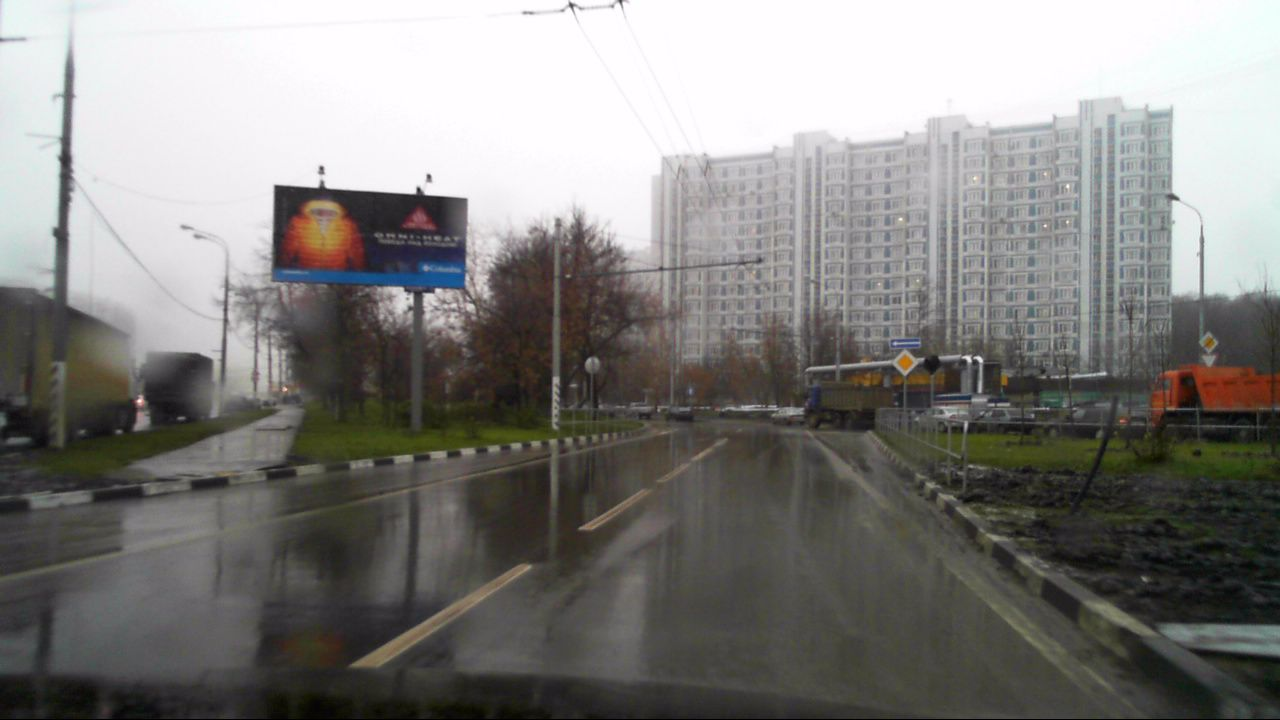main road: (1197, 331, 1219, 353)
